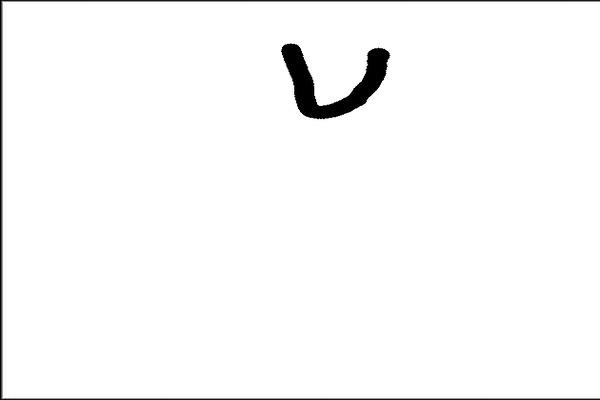U: (274, 35, 393, 121)
